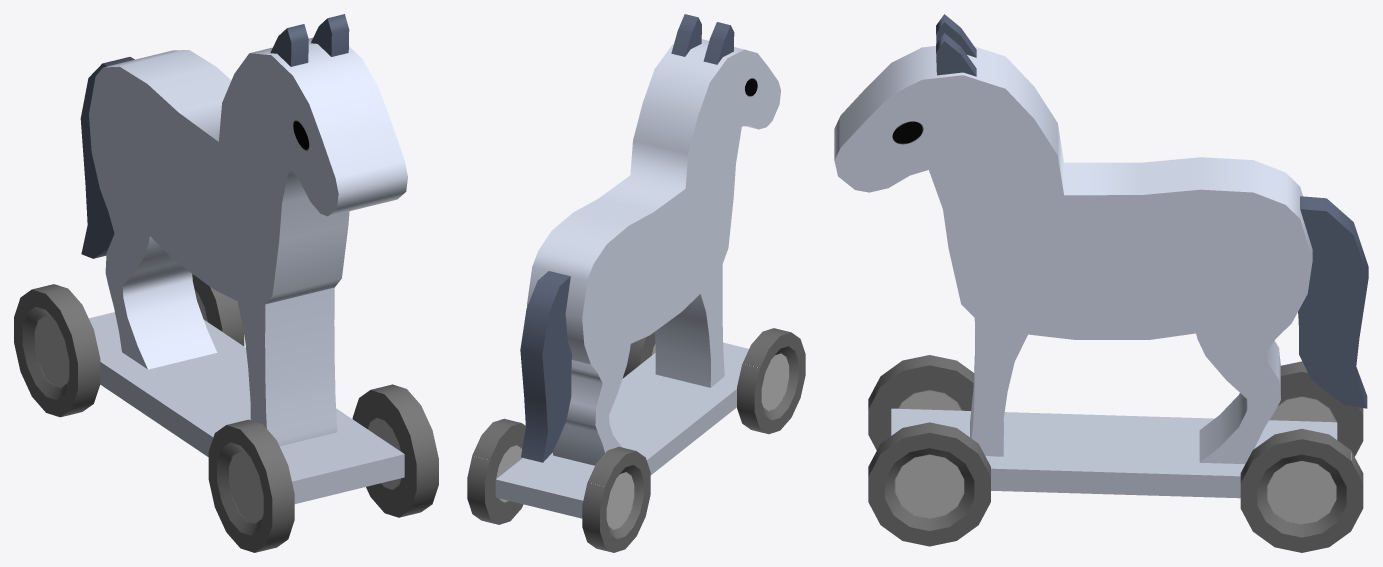
The model's file is Horse_enemy.fbx.
The picture shows the model from 3 angles, left to right: view 1: azimuth 30°, elevation 25°; view 2: azimuth 150°, elevation 25°; view 3: azimuth 270°, elevation 25°; orthographic projection. The views are drawn at different scales.
Visible parts, largest first — view 1: horsie, plank, wheel2, wheel1, wheel4, wheel3; view 2: horsie, plank, wheel2, wheel1, wheel3, wheel4; view 3: horsie, plank, wheel3, wheel4, wheel2, wheel1.
Part boxes in pixels (x1,y1,x2,y2): horsie: (80, 14, 407, 446); plank: (89, 312, 404, 503); wheel2: (208, 419, 294, 552); wheel1: (14, 284, 100, 417); wheel4: (352, 384, 438, 517); wheel3: (192, 274, 244, 346); horsie: (520, 14, 780, 465); plank: (495, 342, 748, 518); wheel2: (737, 328, 805, 434); wheel1: (582, 447, 650, 552); wheel3: (467, 418, 525, 524); wheel4: (622, 332, 655, 378); horsie: (834, 14, 1368, 464); plank: (891, 408, 1337, 498); wheel3: (1240, 429, 1363, 552); wheel4: (868, 422, 990, 546); wheel2: (868, 355, 973, 450); wheel1: (1269, 361, 1363, 456).
Bounding box in the file's own units: 2.4 × 7 × 6.96.
Materials: 3 (2 with a texture image).
